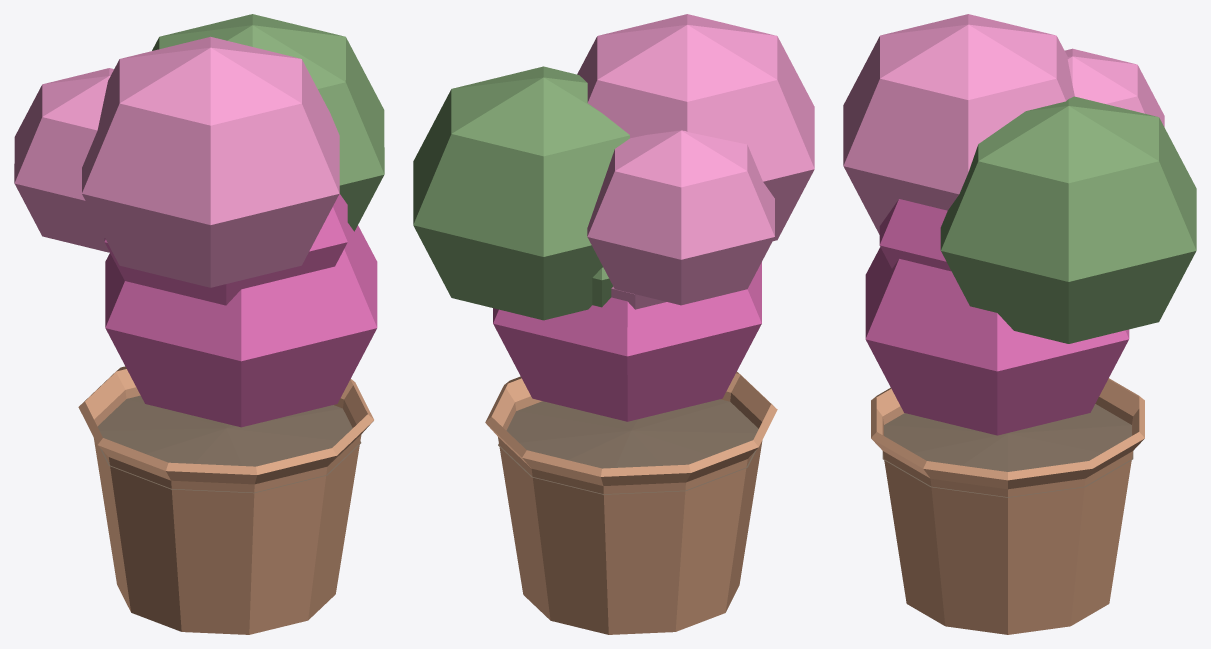
File: fv_bush.glb
The picture shows the model from 3 angles, left to right: view 1: azimuth 30°, elevation 25°; view 2: azimuth 150°, elevation 25°; view 3: azimuth 270°, elevation 25°; orthographic projection. The views are drawn at different scales.
Parts seen in each view (by area): view 1: fv_bush; view 2: fv_bush; view 3: fv_bush.
Part boxes in pixels (x1=…): fv_bush: x1=14, y1=14, x2=384, y2=634; fv_bush: x1=413, y1=14, x2=814, y2=634; fv_bush: x1=843, y1=14, x2=1196, y2=634.
Bounding box in the file's own units: 1.31 × 1.93 × 1.13.
